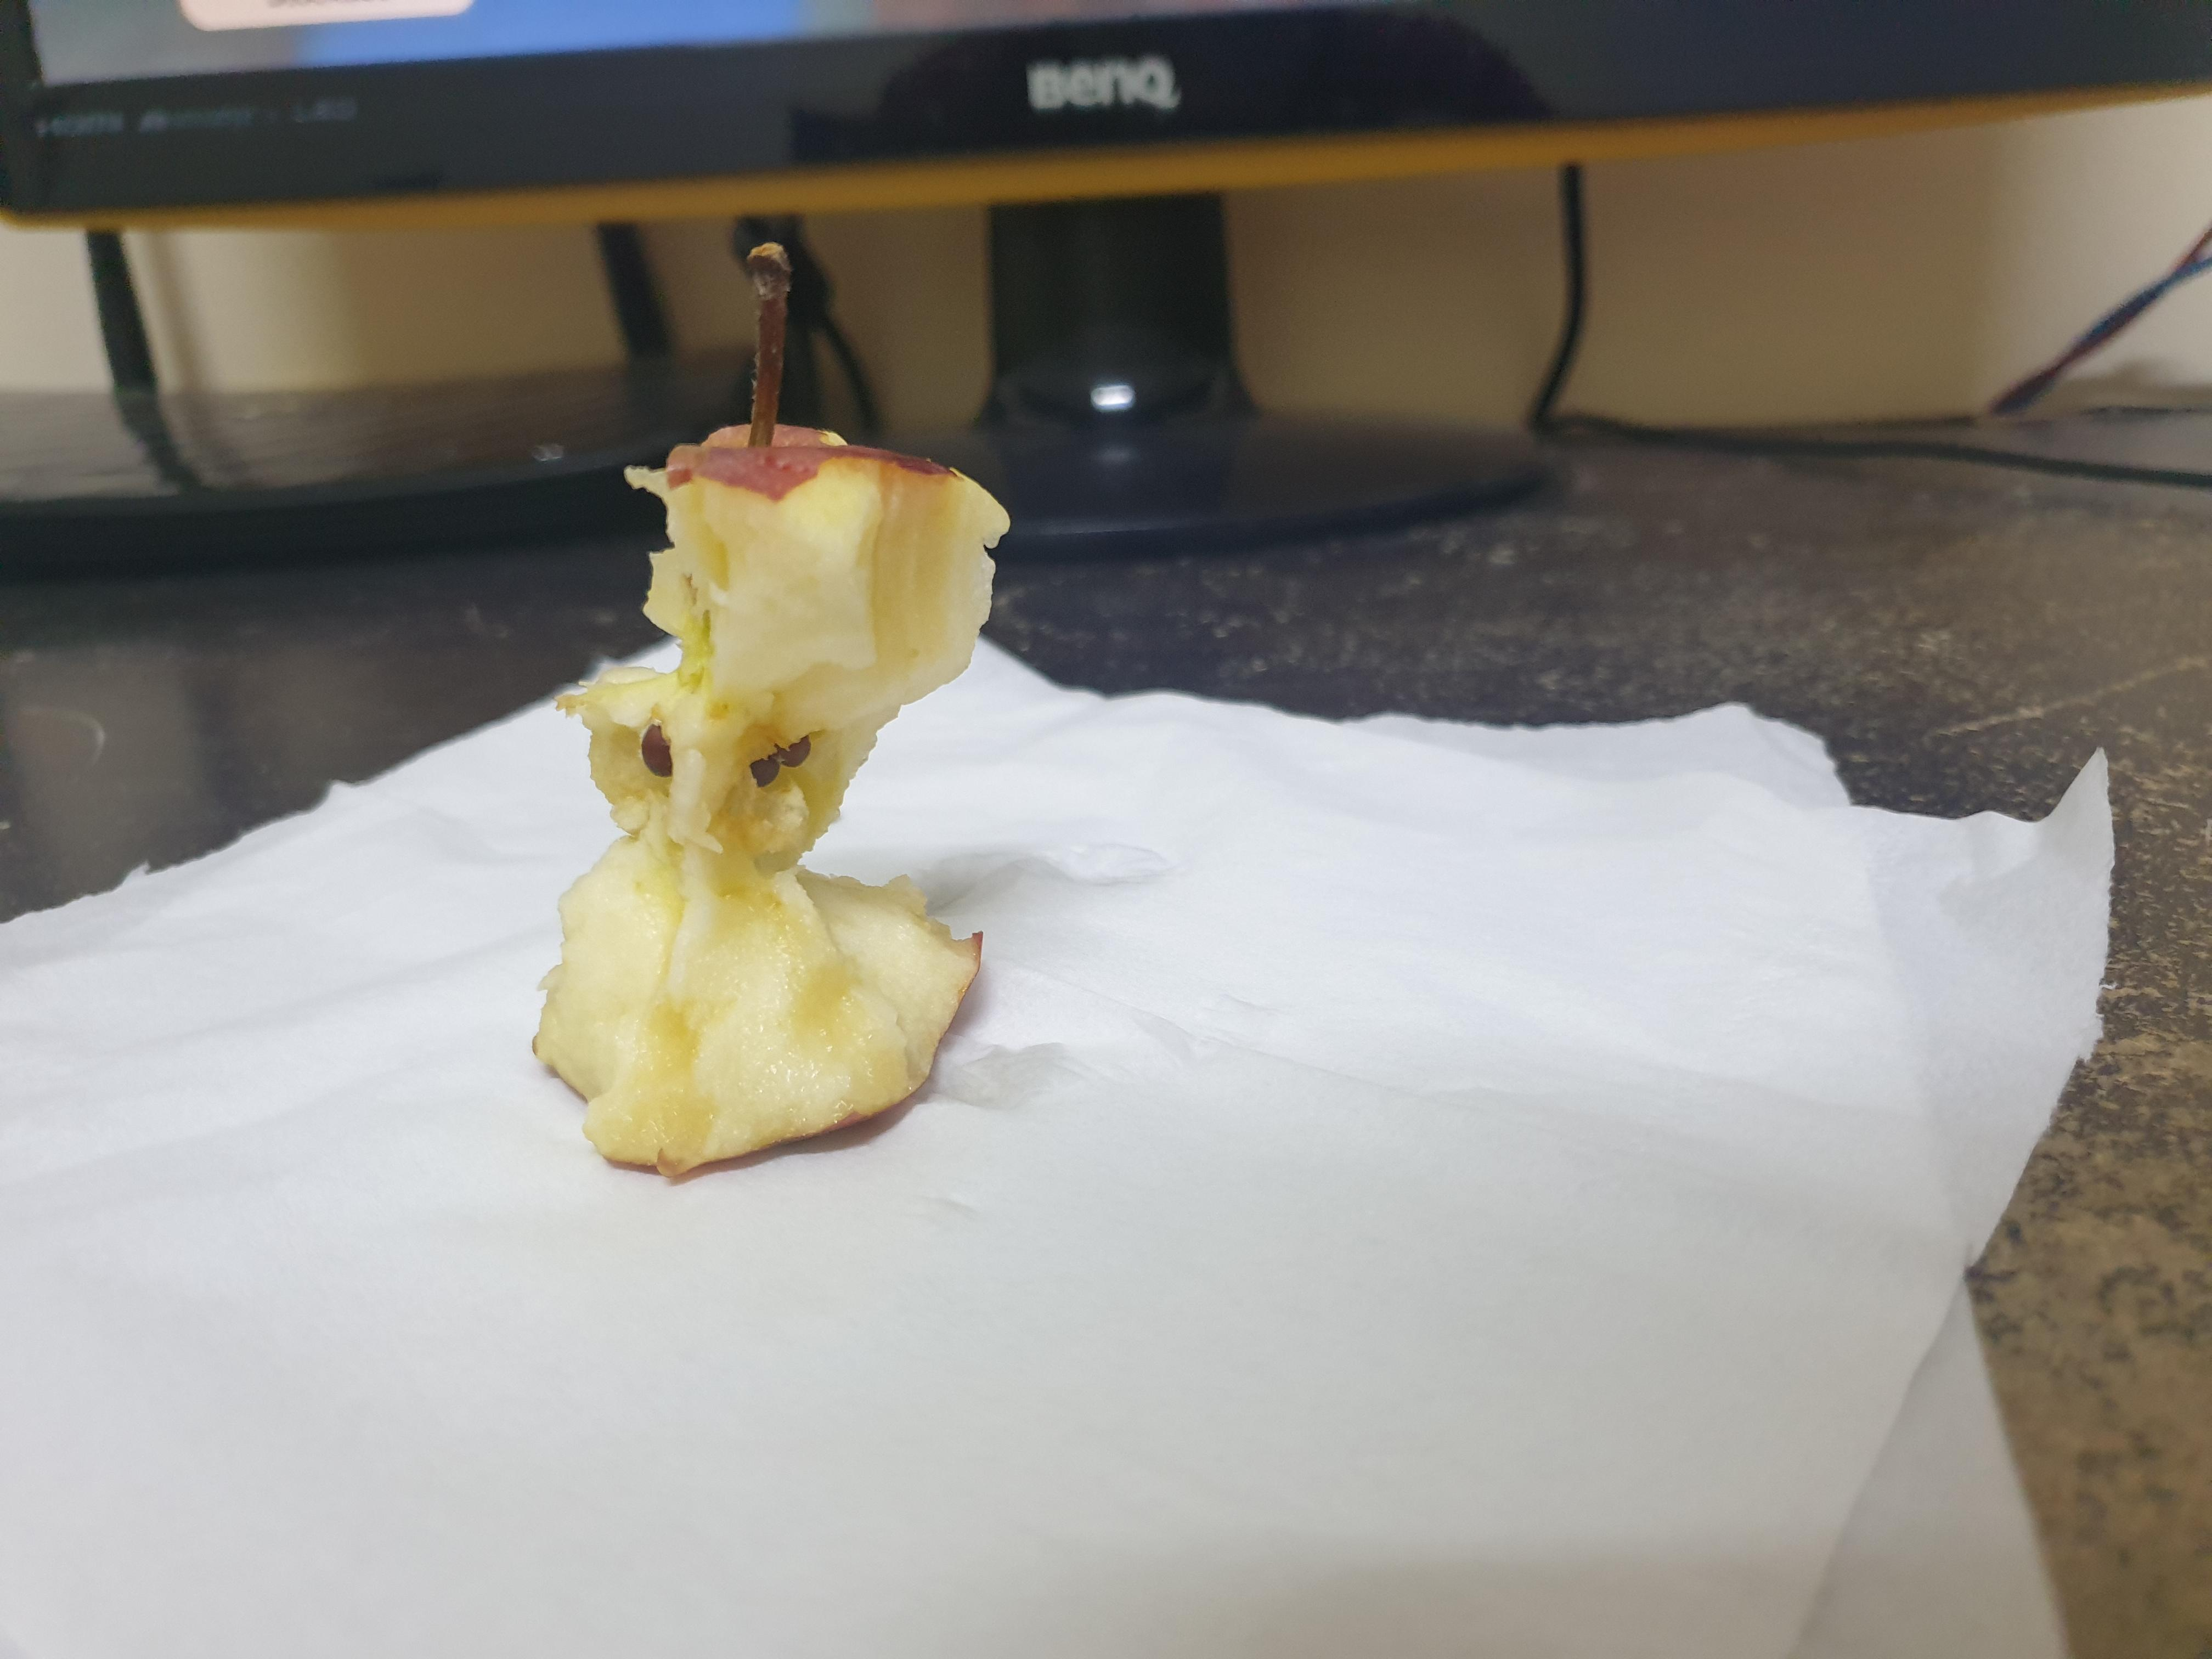Apple: (510, 213, 1052, 1227)
